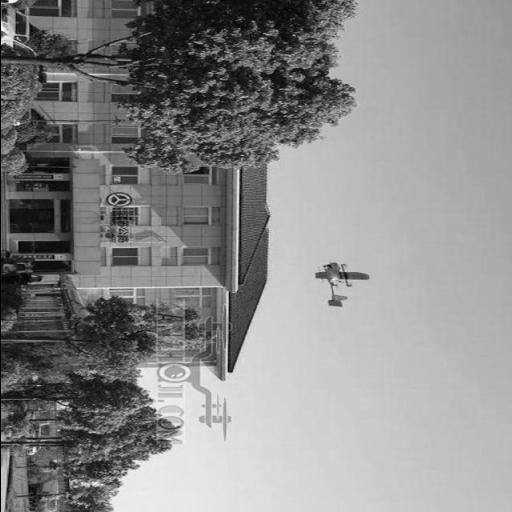uav: (312, 263, 370, 308)
